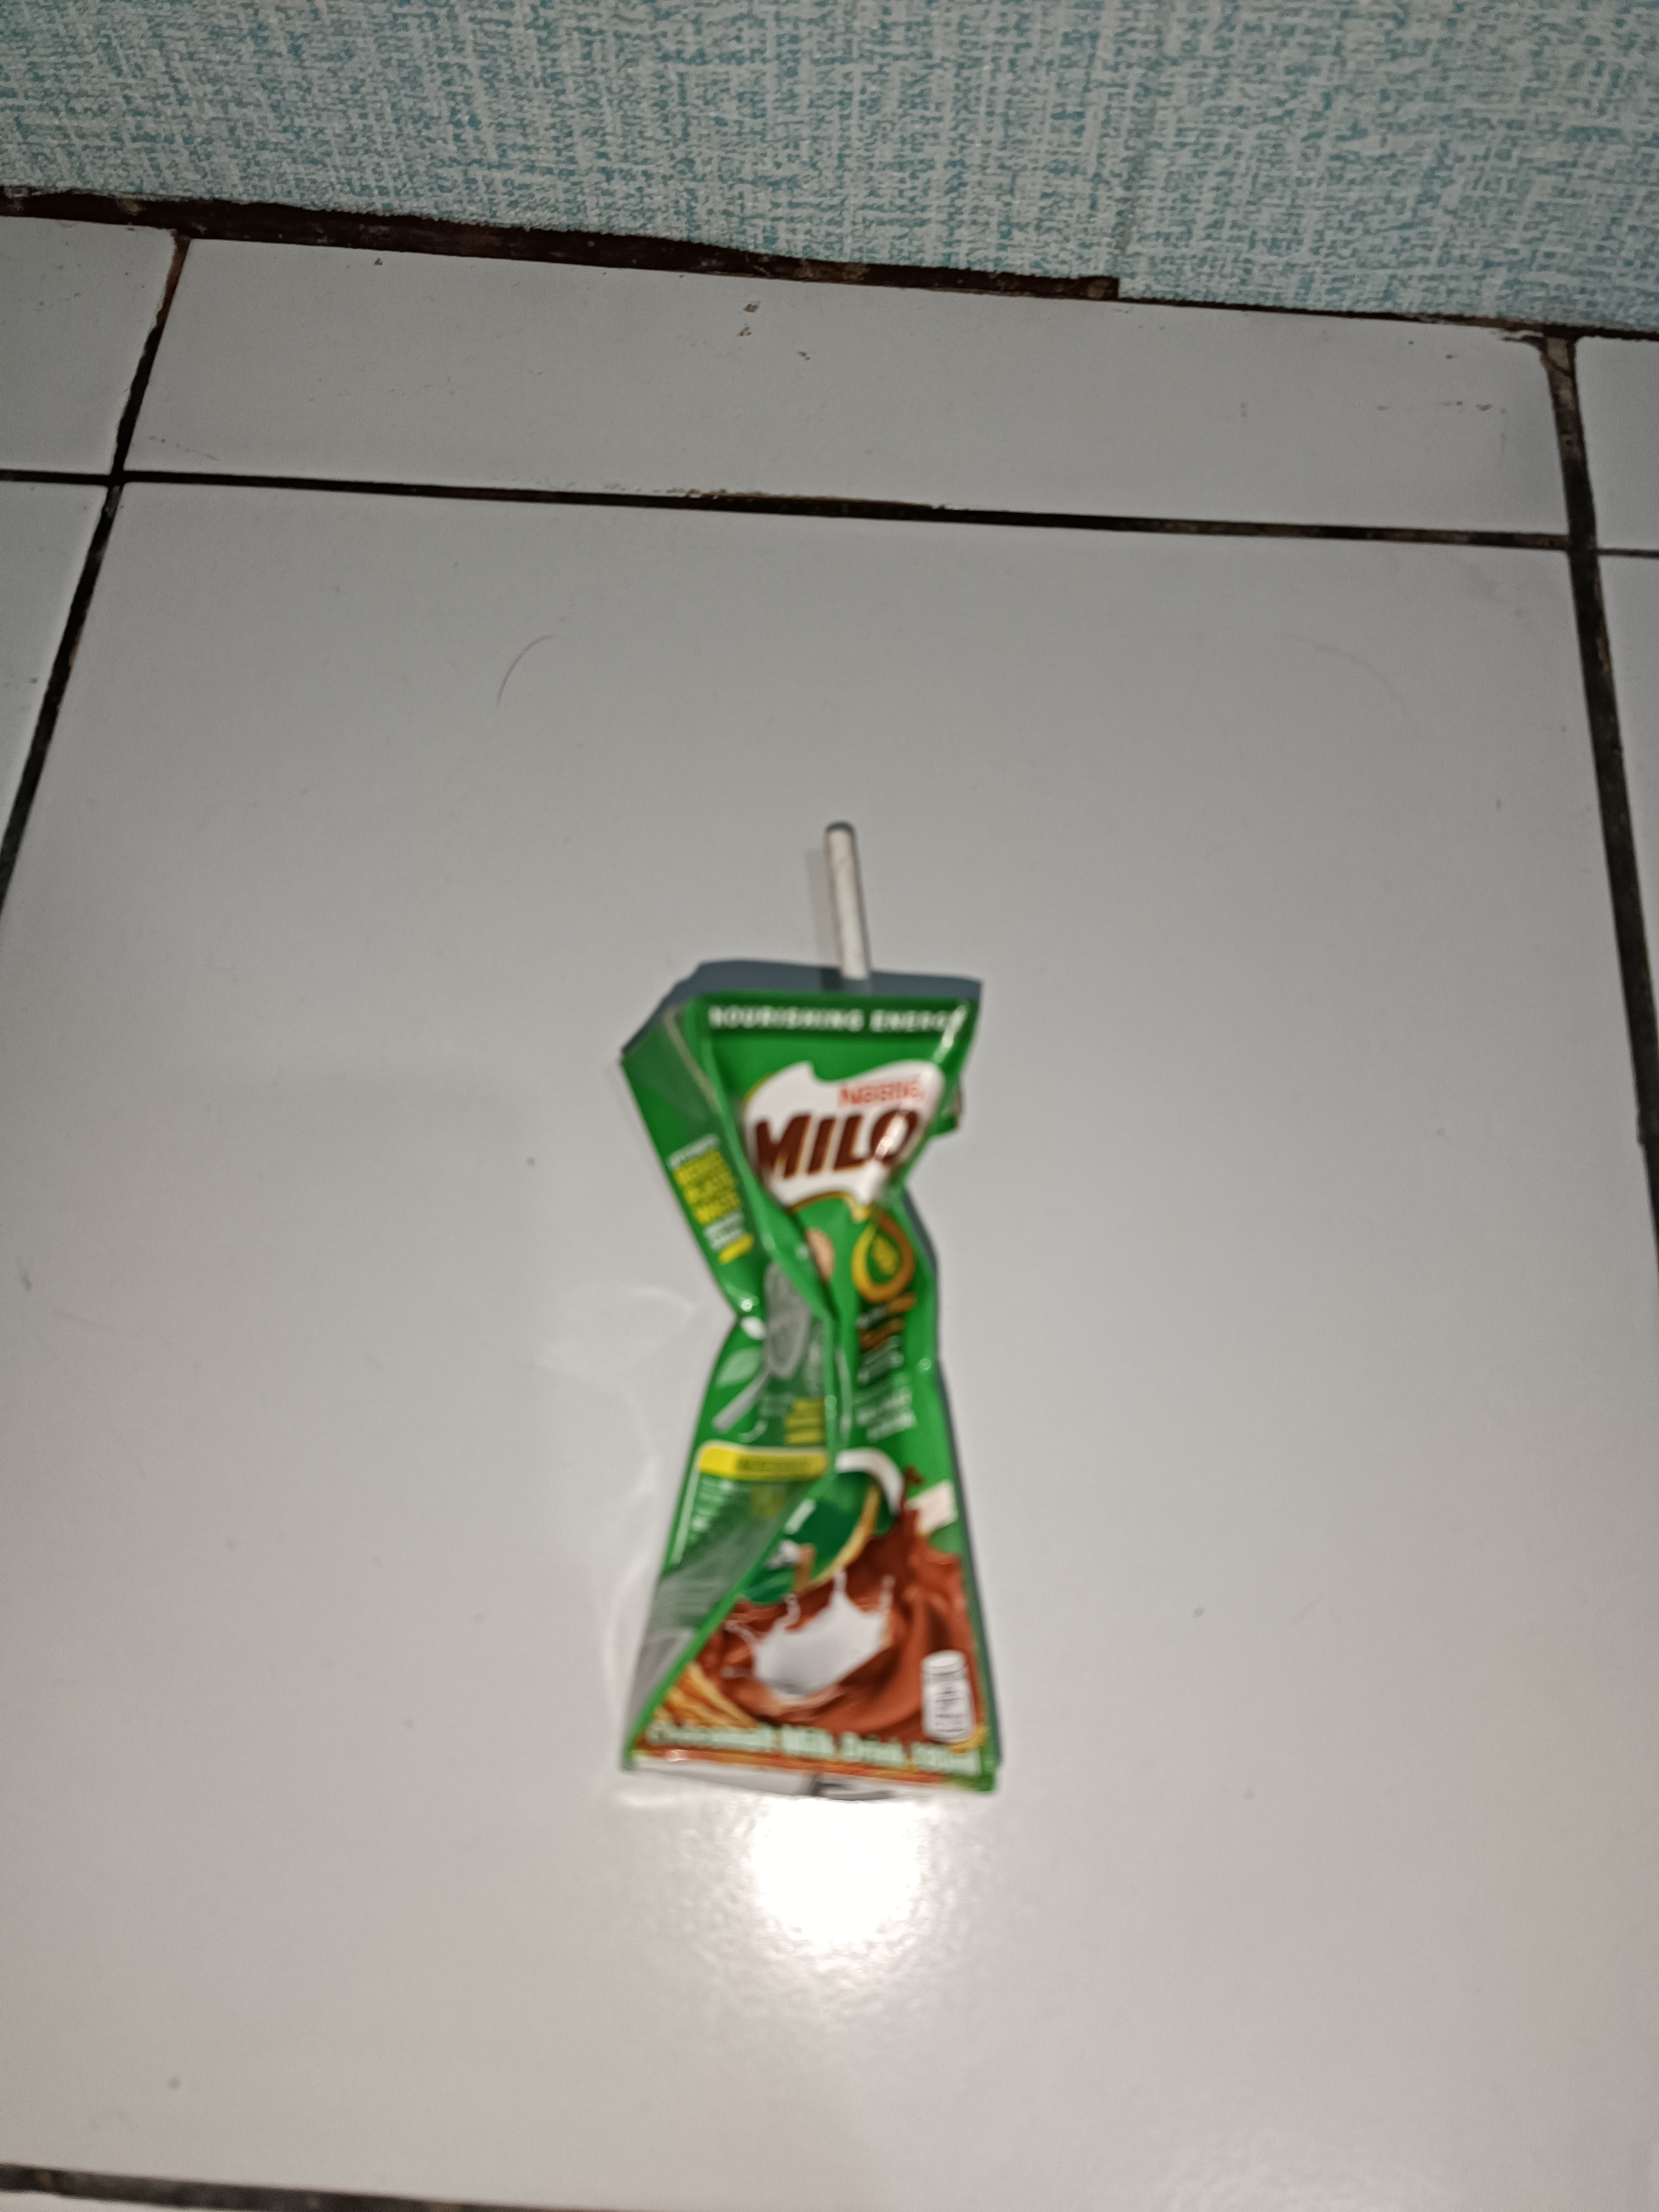Juice Box: (493, 740, 1007, 1909)
